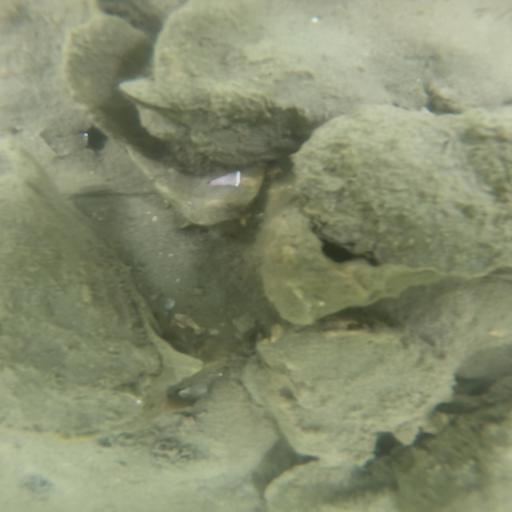Oyster-Closed: (1, 147, 158, 431), (296, 109, 496, 279), (150, 2, 396, 123), (252, 324, 461, 464), (74, 380, 270, 485), (131, 88, 342, 166), (377, 283, 510, 376)
